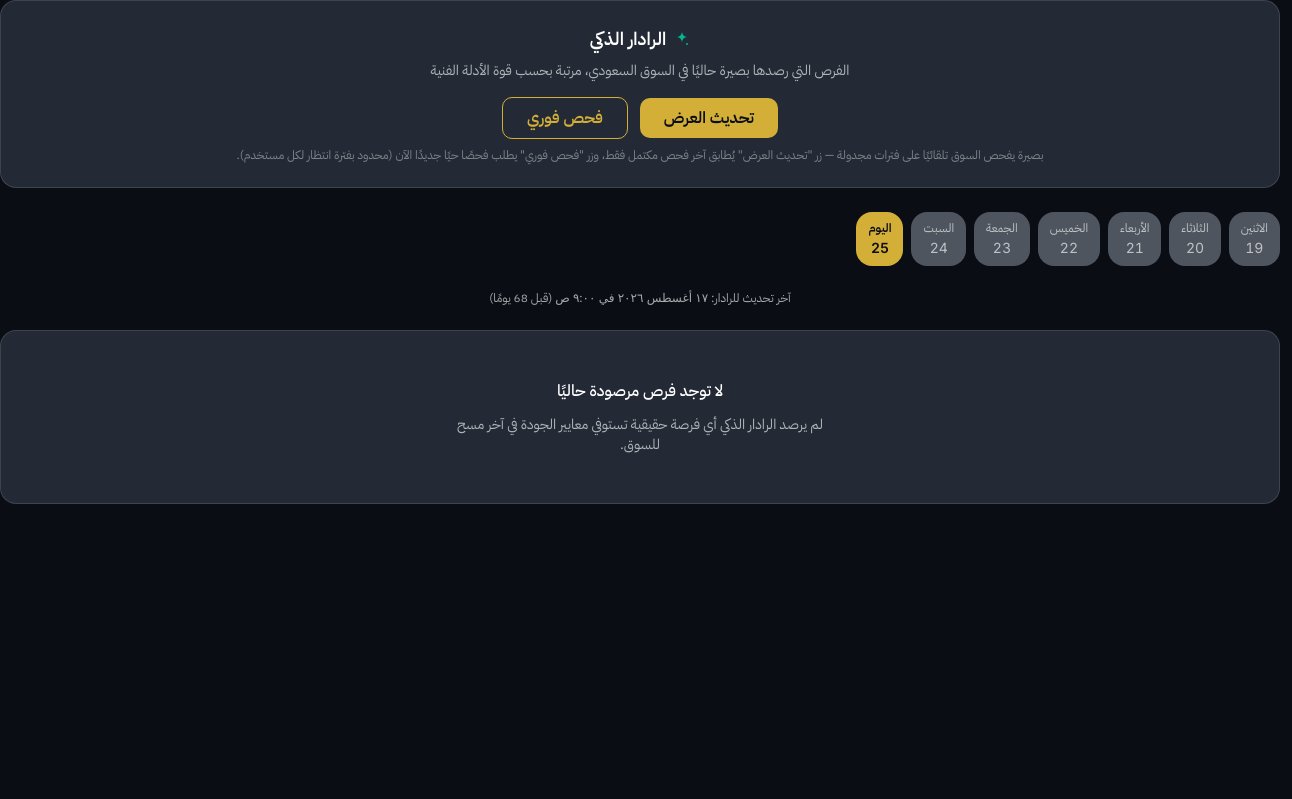
Test: RadarPage › day browsing › fetches and shows a real past day's opportunities when its tab is selected
Expected: the text "لا توجد فرص مرصودة حاليًا" is shown, 557,379 -> 723,403
Click the tab "السبت 24": (939, 239) 912,212 -> 966,266
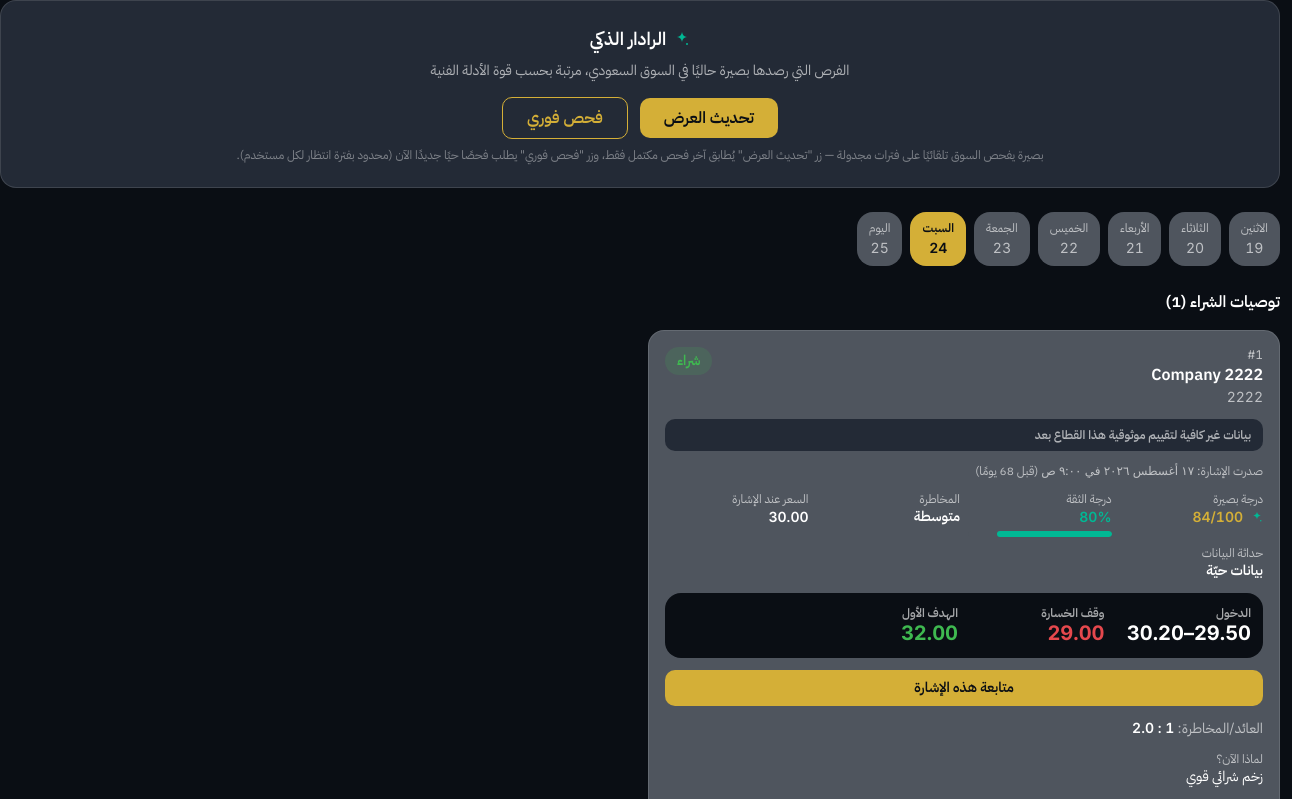
Now the text "2222" is shown, box 1227,388 -> 1263,405
